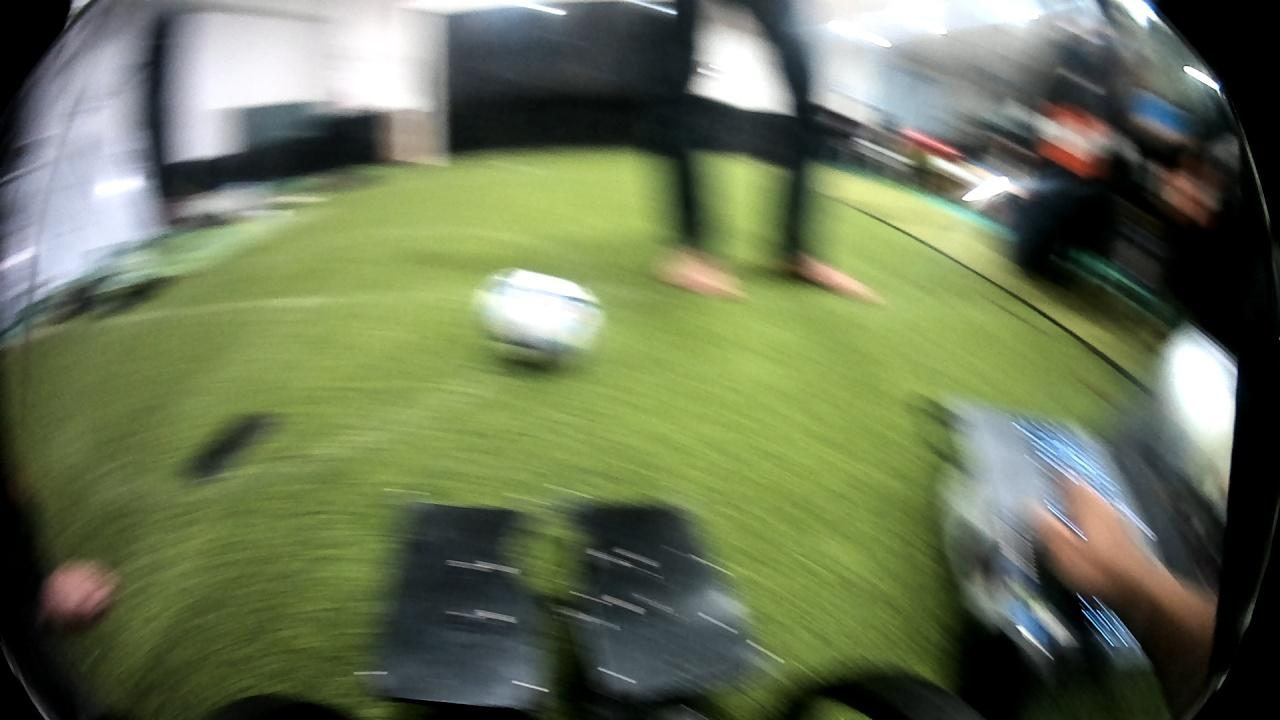ball: (469, 262, 607, 385)
